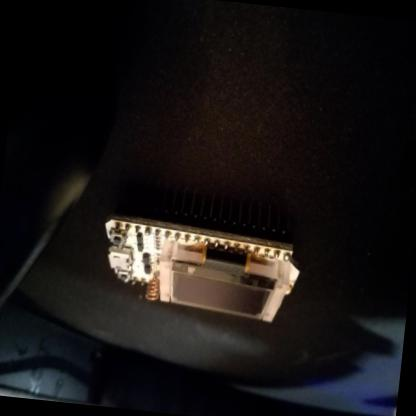Heltec_ESP32_Lora: (91, 182, 316, 336)
